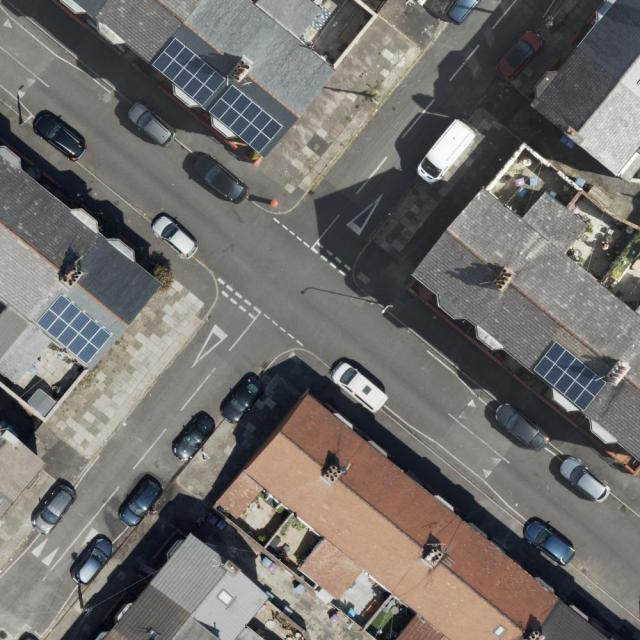roof: (216, 392, 614, 640), (411, 187, 640, 465), (66, 0, 335, 158), (0, 154, 163, 384), (529, 0, 640, 183), (105, 531, 270, 640)
skylight: (210, 590, 236, 609), (493, 624, 506, 638)
solar: (532, 338, 608, 411), (35, 294, 113, 364), (150, 36, 227, 106), (209, 87, 279, 153)
